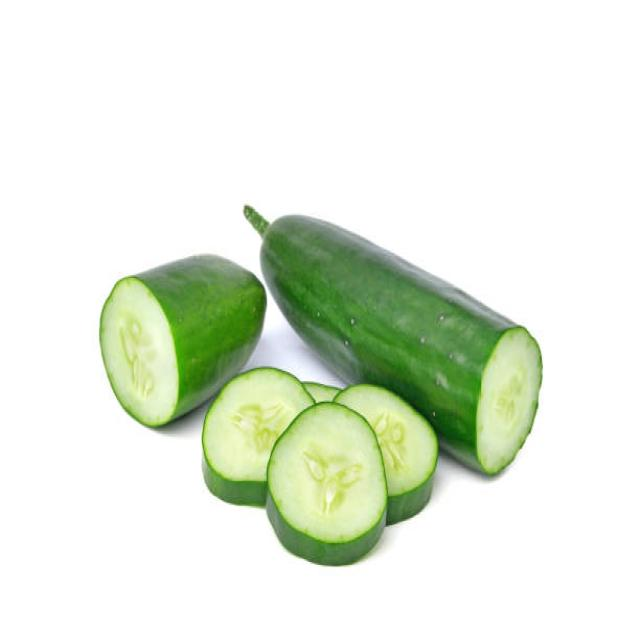cucumber: (262, 212, 544, 477), (99, 253, 269, 427)
